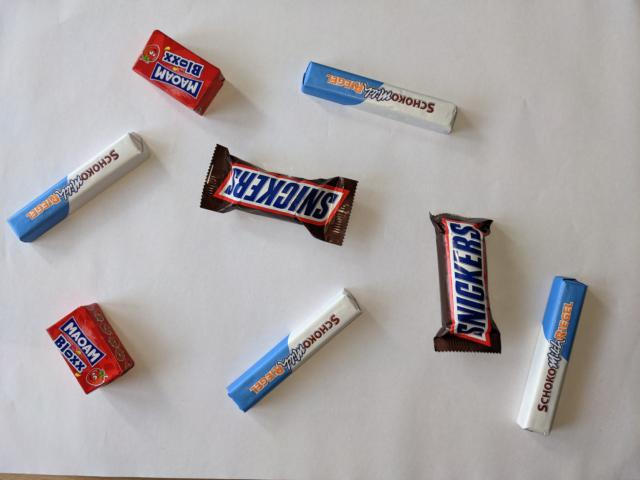MAOAM: (40, 299, 138, 398), (128, 27, 228, 117)
Schokoriegel: (221, 283, 365, 417), (3, 128, 156, 247), (509, 272, 590, 439), (297, 58, 460, 138)
Snickers: (197, 141, 361, 250), (424, 207, 505, 358)
